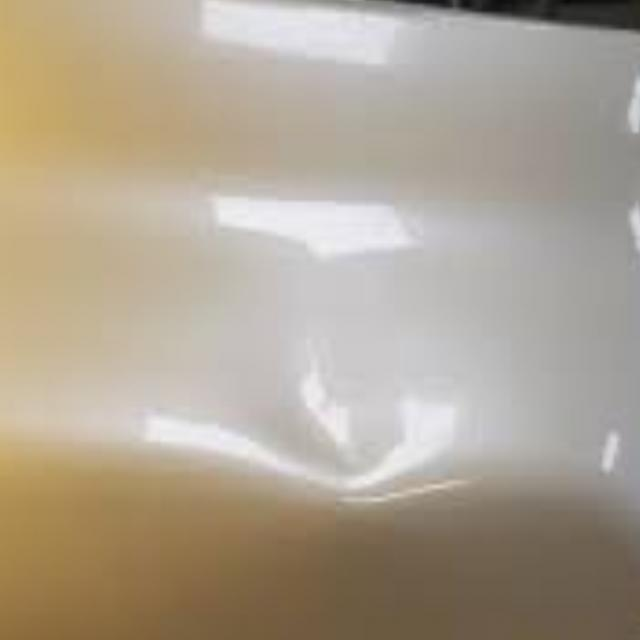dents: (268, 381, 438, 487)
